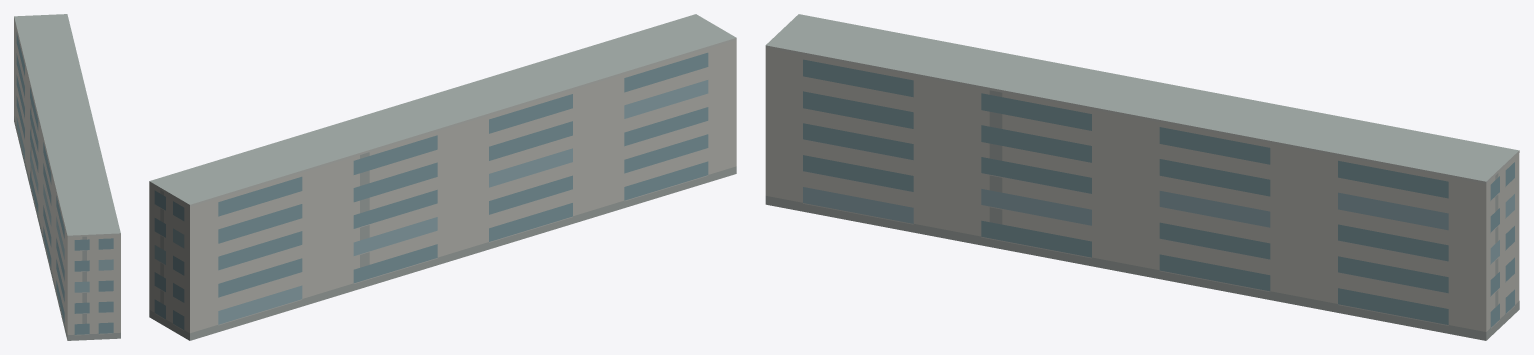
Rendered from residential-955e0746-58e3-43be-a80c-3227f92f9222.glb.
The picture shows the model from 3 angles, left to right: view 1: azimuth 30°, elevation 25°; view 2: azimuth 150°, elevation 25°; view 3: azimuth 270°, elevation 25°; orthographic projection. The views are drawn at different scales.
Visible parts, largest first — view 1: residential-955e0746-58e3-43be-a80c-3227f92f9222.tmp; view 2: residential-955e0746-58e3-43be-a80c-3227f92f9222.tmp; view 3: residential-955e0746-58e3-43be-a80c-3227f92f9222.tmp.
Boxes of the visible parts, x1,y1,x2,y2 form: residential-955e0746-58e3-43be-a80c-3227f92f9222.tmp: (14,14,120,340); residential-955e0746-58e3-43be-a80c-3227f92f9222.tmp: (149,14,736,340); residential-955e0746-58e3-43be-a80c-3227f92f9222.tmp: (765,14,1519,340).
Bounding box in the file's own units: 34.45 × 15.25 × 65.44.
